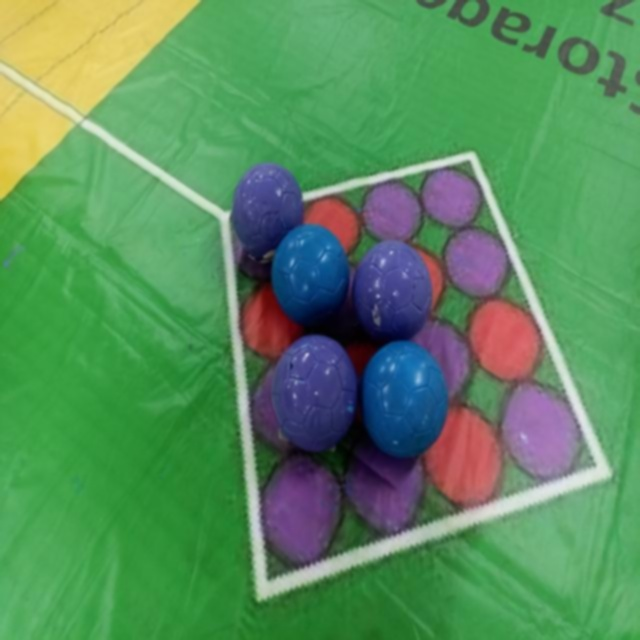blue_ball: (361, 342, 453, 462), (275, 223, 346, 321)
purple_ball: (349, 229, 453, 347), (266, 330, 357, 451), (230, 163, 295, 261)
